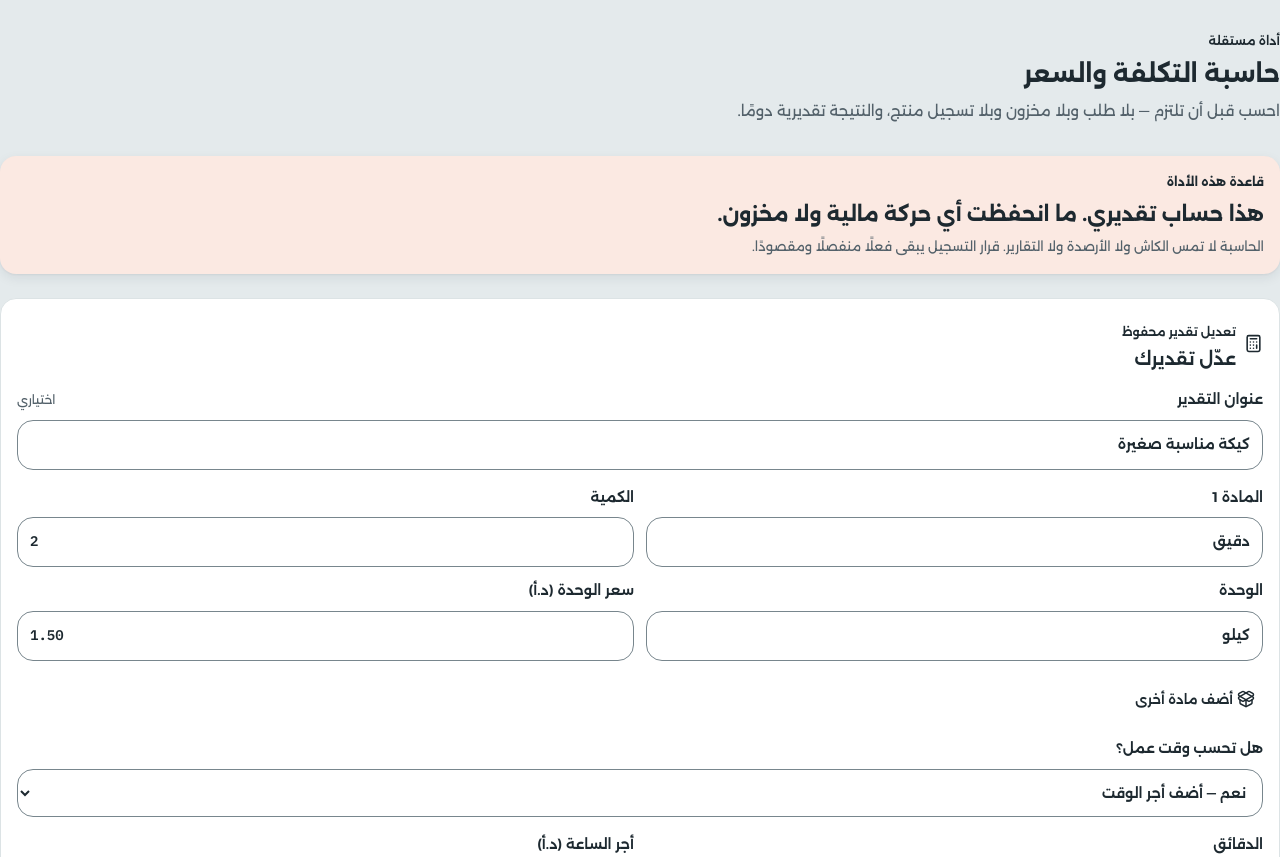
Test: G3 — Group 3 surfaces: calculator, estimates, product-to-sale › calculator edit mode (?estimate=) loads the original and updates it in place — no duplicate
expect the field showing "كيكة مناسبة صغيرة" is shown: met, box [17,420,1263,470]
expect the field showing "دقيق" is shown: met, box [646,517,1263,567]
Replace the text in the field named "سعر وحدة المادة 1" with "20.00" at (326, 636), box [17,611,634,661]
(page scrolled)
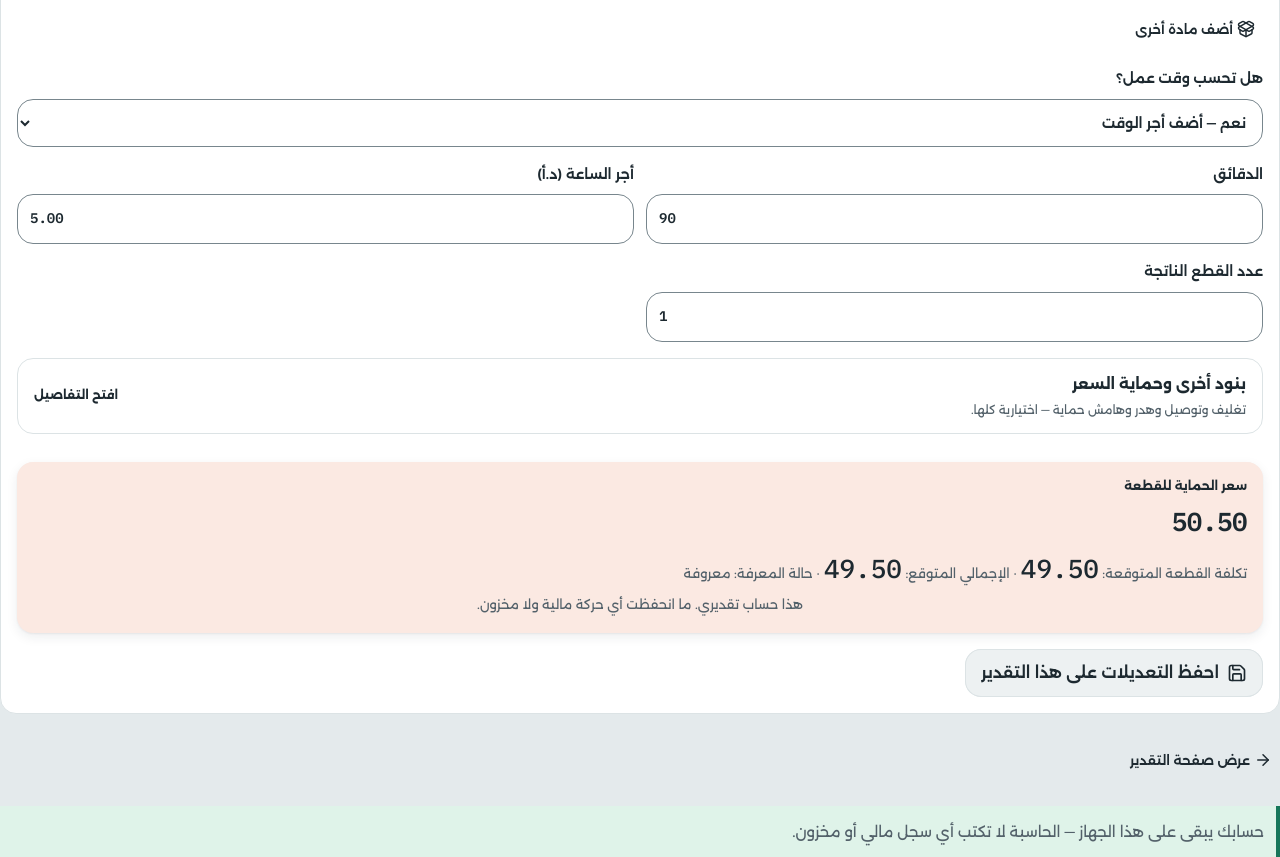
Click the button "احفظ التعديلات على هذا التقدير" at (1114, 673), box [965,649,1263,697]
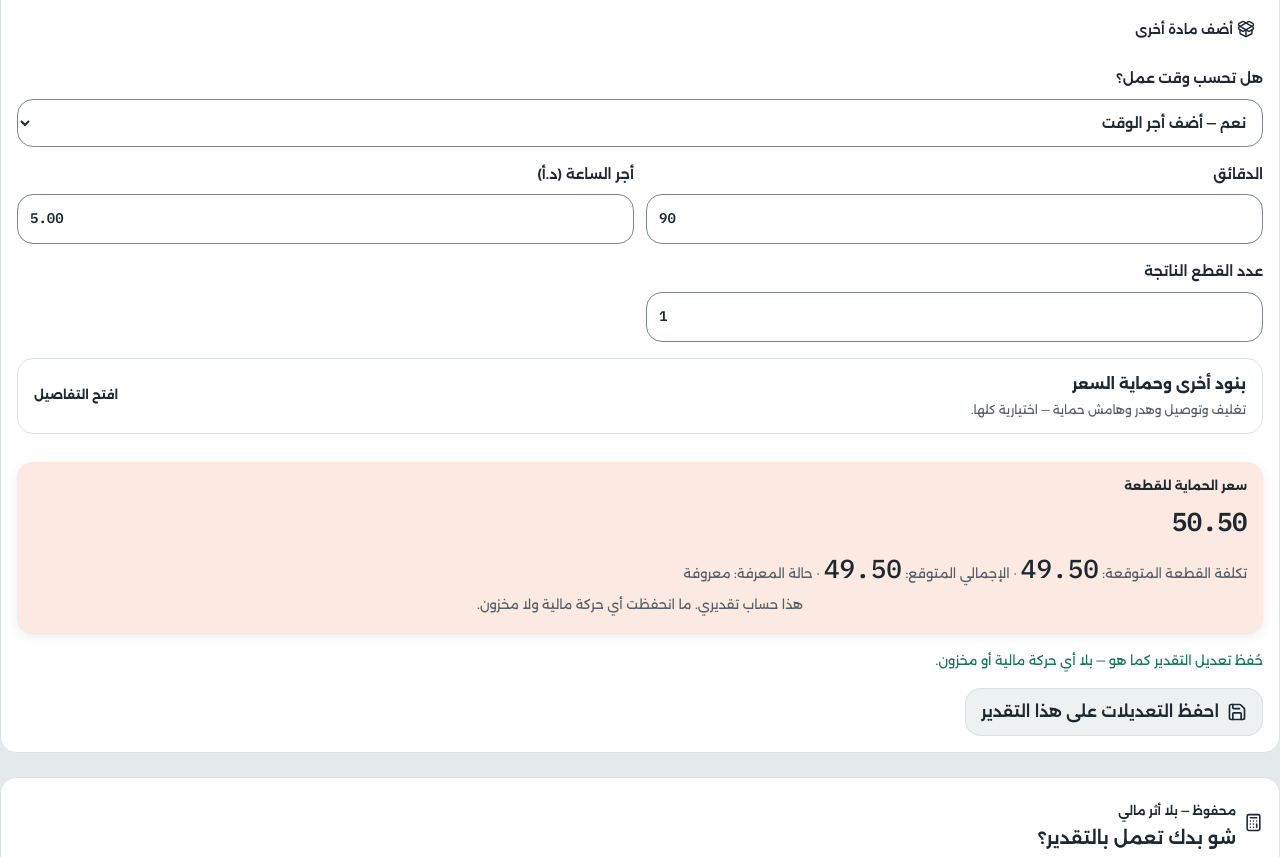
expect the text "حُفظ تعديل التقدير كما هو — بلا أي حركة مالية أو مخزون." is shown: met, box [936,652,1263,668]
